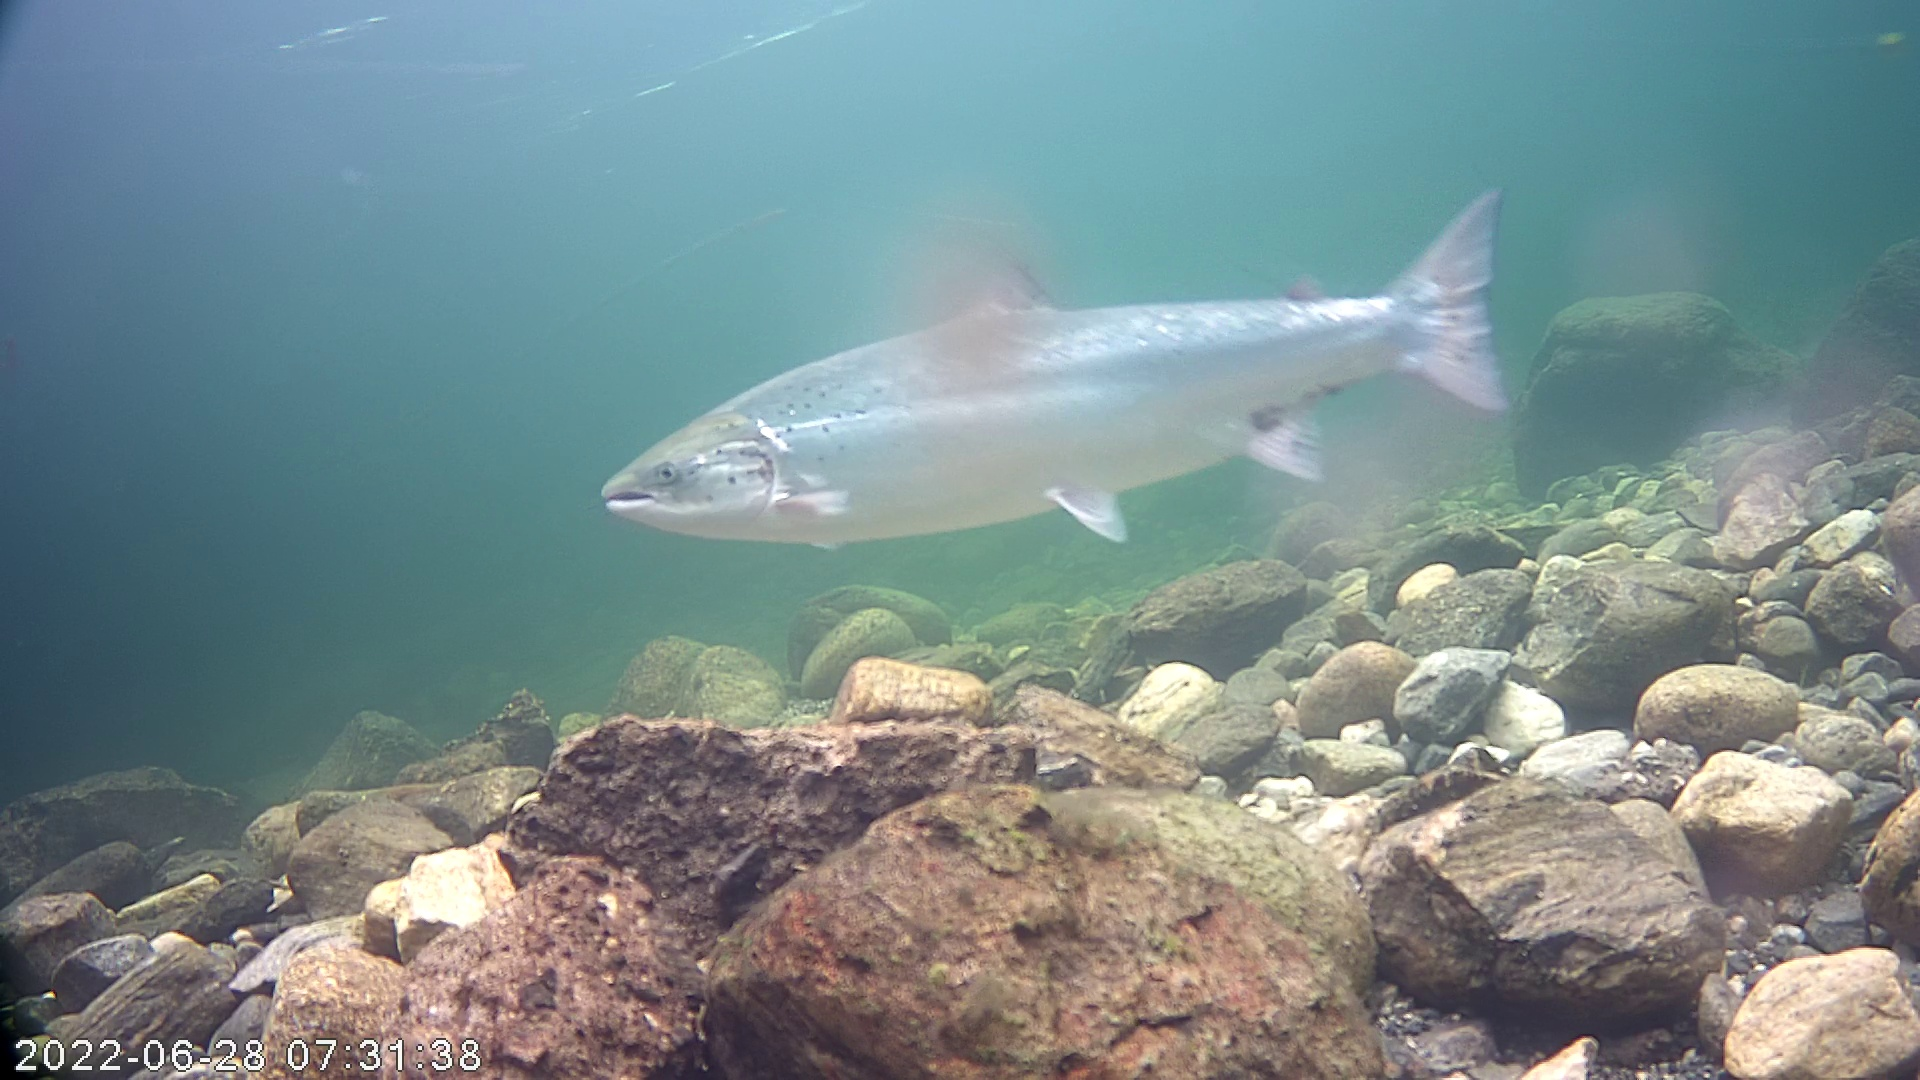salmon: (578, 108, 1553, 605)
